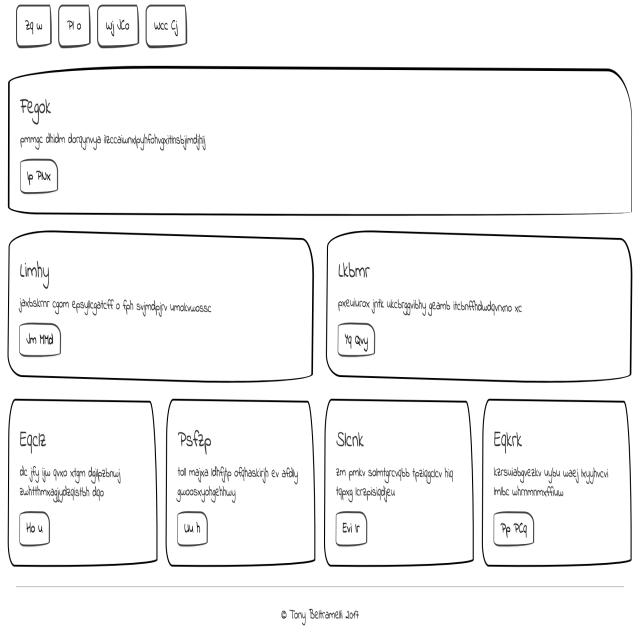Button: (17, 319, 65, 363), (175, 509, 220, 555), (491, 508, 537, 549), (16, 158, 61, 197), (332, 506, 367, 554), (16, 510, 53, 550), (336, 323, 377, 355)
Card: (8, 67, 638, 223), (324, 228, 635, 388), (5, 231, 318, 387), (2, 396, 160, 570), (165, 398, 317, 572), (323, 398, 475, 572), (483, 397, 635, 570)
Footer: (1, 586, 639, 640)
Heading 6: (176, 423, 221, 464), (14, 89, 57, 128), (13, 423, 57, 458), (17, 258, 61, 292), (333, 255, 381, 286), (492, 425, 534, 457), (335, 426, 368, 454)
Navigation Bar: (12, 6, 195, 51)
Paragraph: (489, 460, 615, 507), (335, 291, 524, 320), (334, 460, 457, 504), (174, 463, 307, 503), (17, 292, 211, 319), (18, 129, 214, 153), (17, 464, 123, 503)
